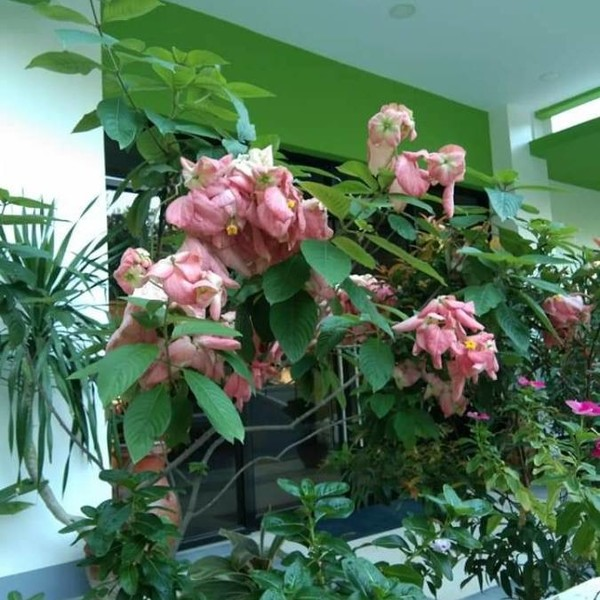obstacle: (77, 42, 565, 579)
